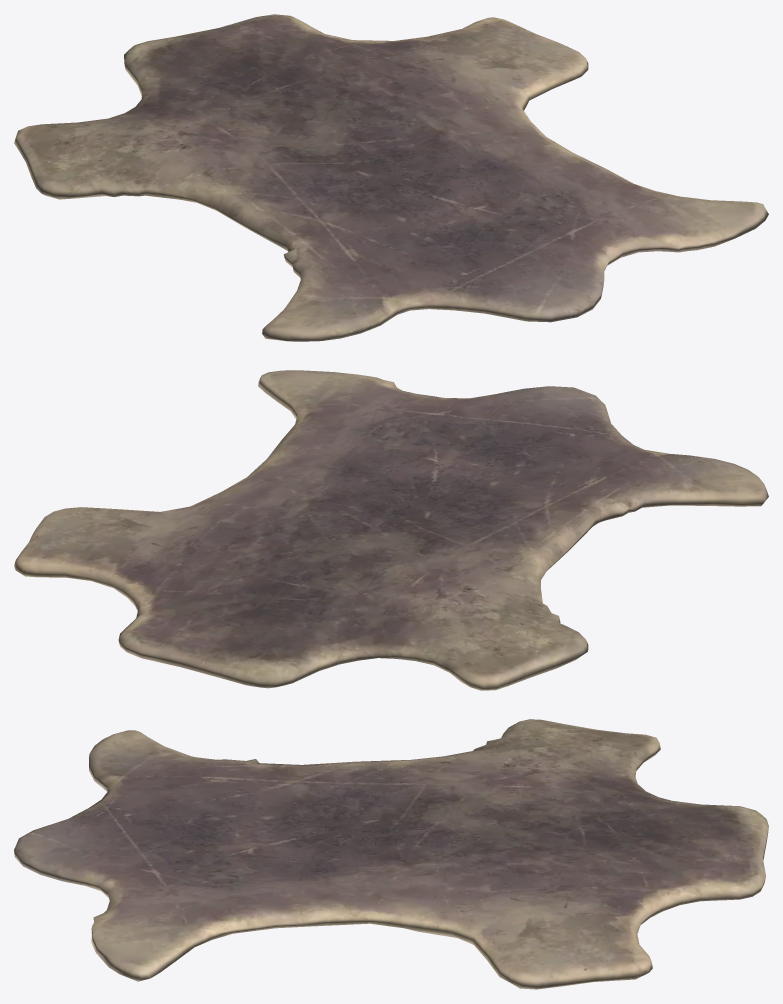
3 views of the same model, one above another, from view 1: azimuth 30°, elevation 25°; view 2: azimuth 150°, elevation 25°; view 3: azimuth 270°, elevation 25° (orthographic).
Visible parts, largest first — view 1: SM_Hard_Leather_01_LOD0; view 2: SM_Hard_Leather_01_LOD0; view 3: SM_Hard_Leather_01_LOD0.
Part boxes in pixels (<box>): SM_Hard_Leather_01_LOD0: <box>14,14,768,341</box>; SM_Hard_Leather_01_LOD0: <box>14,370,768,690</box>; SM_Hard_Leather_01_LOD0: <box>14,719,768,989</box>.
Size of the model in its own units: 0.6461 by 0.0442 by 0.7842.
Materials: 1 (1 with a texture image).
